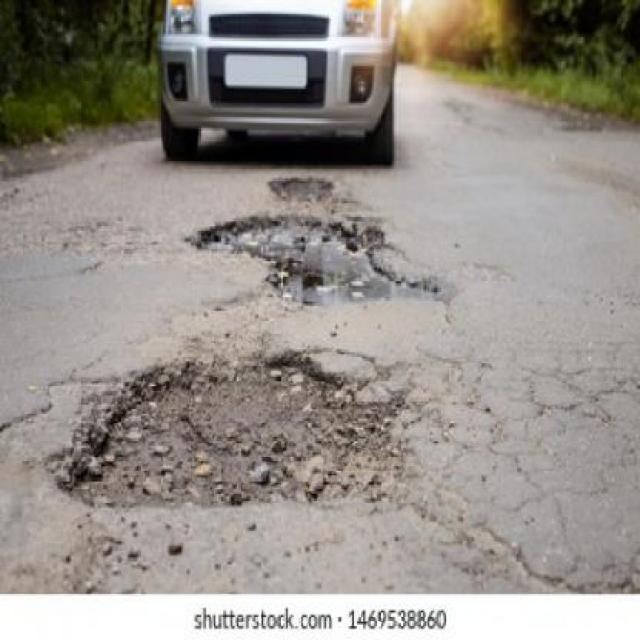Pothole: (49, 347, 515, 554), (188, 208, 466, 308), (272, 175, 340, 204)
